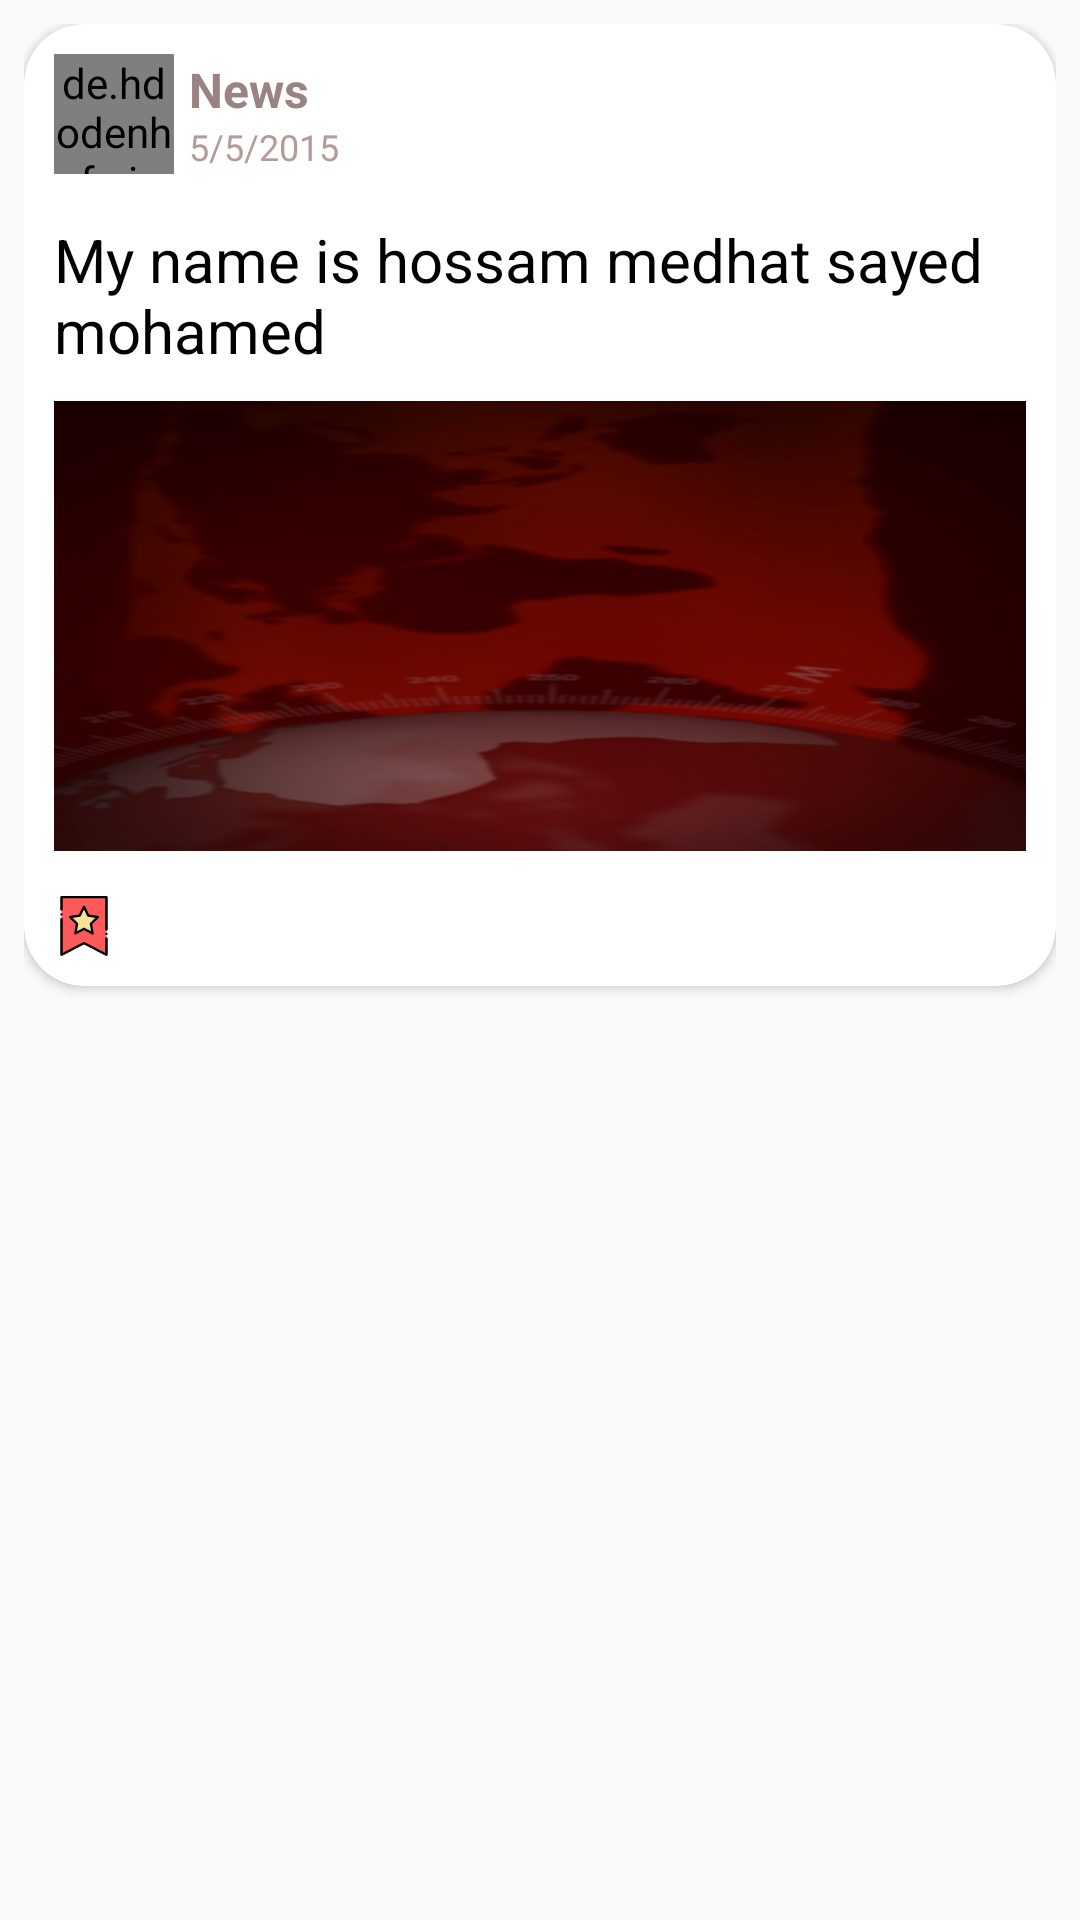

Where to tap for icons on this 1080 × 1920 app screen, as (x=x, y=y):
save: (x=84, y=926)
